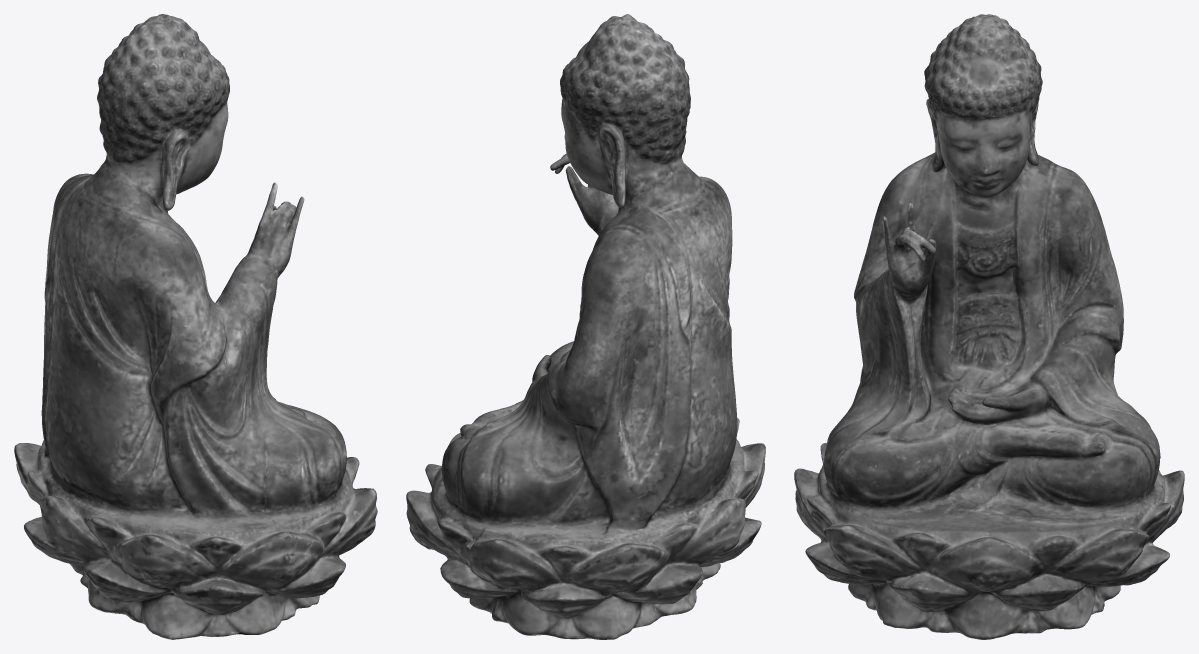
Rendered from seap_model-tuong-phat.glb.
3 views of the same model, side by side, from view 1: azimuth 30°, elevation 25°; view 2: azimuth 150°, elevation 25°; view 3: azimuth 270°, elevation 25° (orthographic). The views are drawn at different scales.
Parts seen in each view (by area): view 1: model_0.003_0; view 2: model_0.003_0; view 3: model_0.003_0.
Part boxes in pixels (x1,y1,x2,y2): model_0.003_0: (14, 14, 377, 639); model_0.003_0: (406, 14, 765, 639); model_0.003_0: (794, 14, 1184, 639).
Bounding box in the file's own units: 1.17 × 2.25 × 1.41.
Materials: 3 (3 with a texture image).
